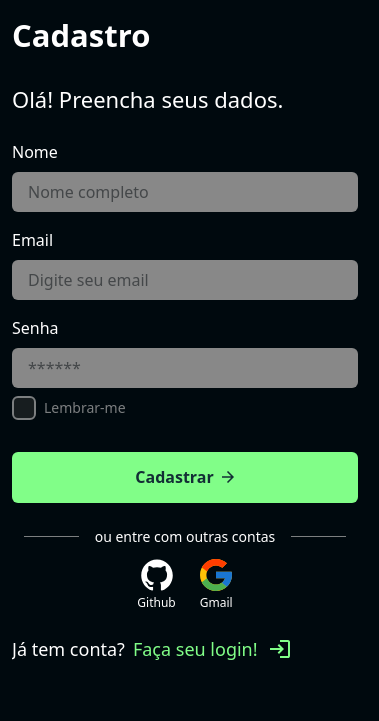
Test: SignUpForm › shows validation errors and does not submit when fields are empty
Click the button "Cadastrar" at point(185, 477), box [12,452,358,502]
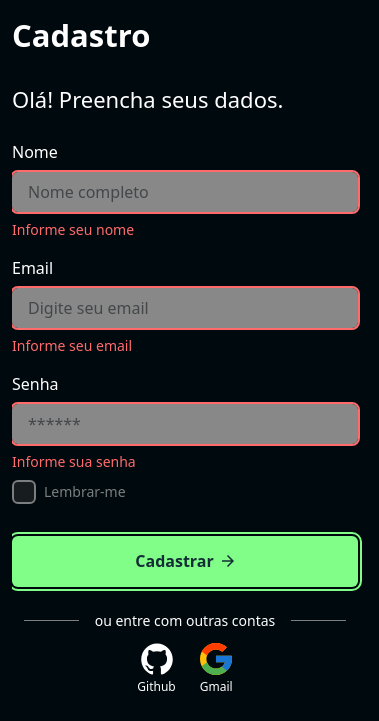
Expected: the text "Informe seu nome" is shown, [12,220,134,238]
Expected: the text "Informe seu email" is shown, [12,336,132,354]
Expected: the text "Informe sua senha" is shown, [12,452,136,470]
